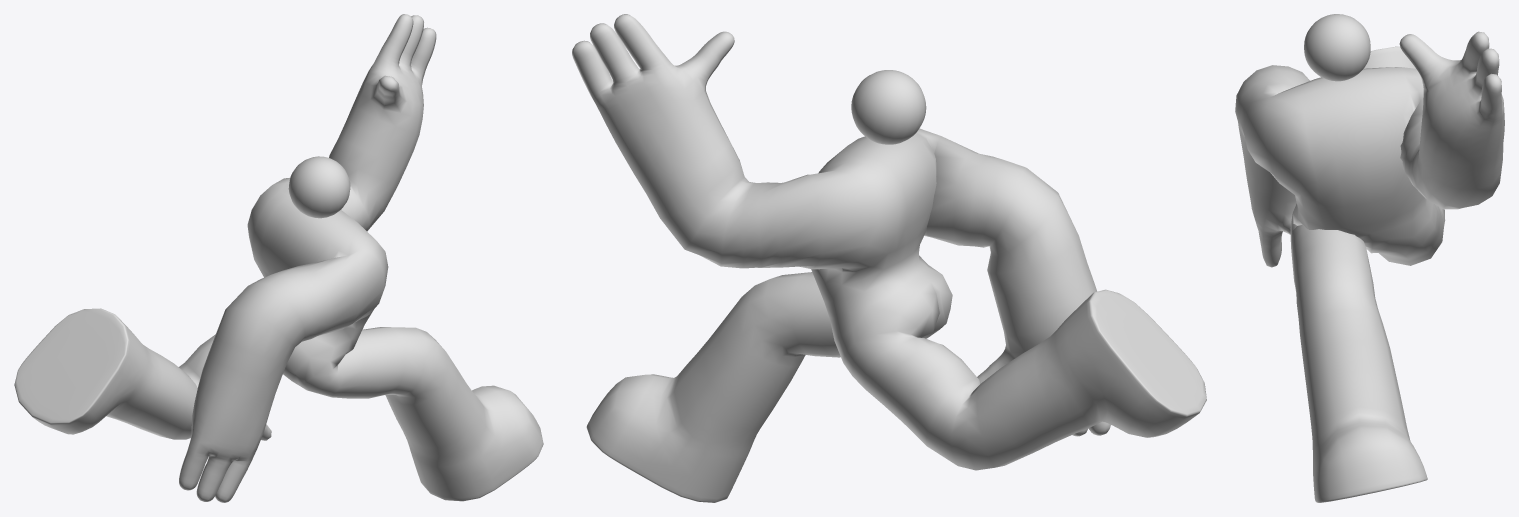
File: kv2-man2.gltf
3 views of the same model, side by side, from view 1: azimuth 30°, elevation 25°; view 2: azimuth 150°, elevation 25°; view 3: azimuth 270°, elevation 25° (orthographic). The views are drawn at different scales.
Visible parts, largest first — view 1: Pose_2; view 2: Pose_2; view 3: Pose_2.
Part boxes in pixels (x1=…): Pose_2: x1=14, y1=14, x2=543, y2=502; Pose_2: x1=572, y1=14, x2=1206, y2=502; Pose_2: x1=1235, y1=14, x2=1504, y2=502.
Size of the model in its own units: 36.96 by 30.58 by 15.83.
1 material, 1 textured.
